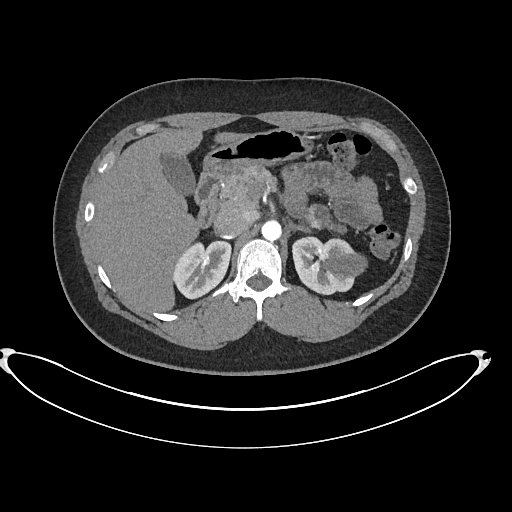Lesion: (328, 246, 369, 280)
